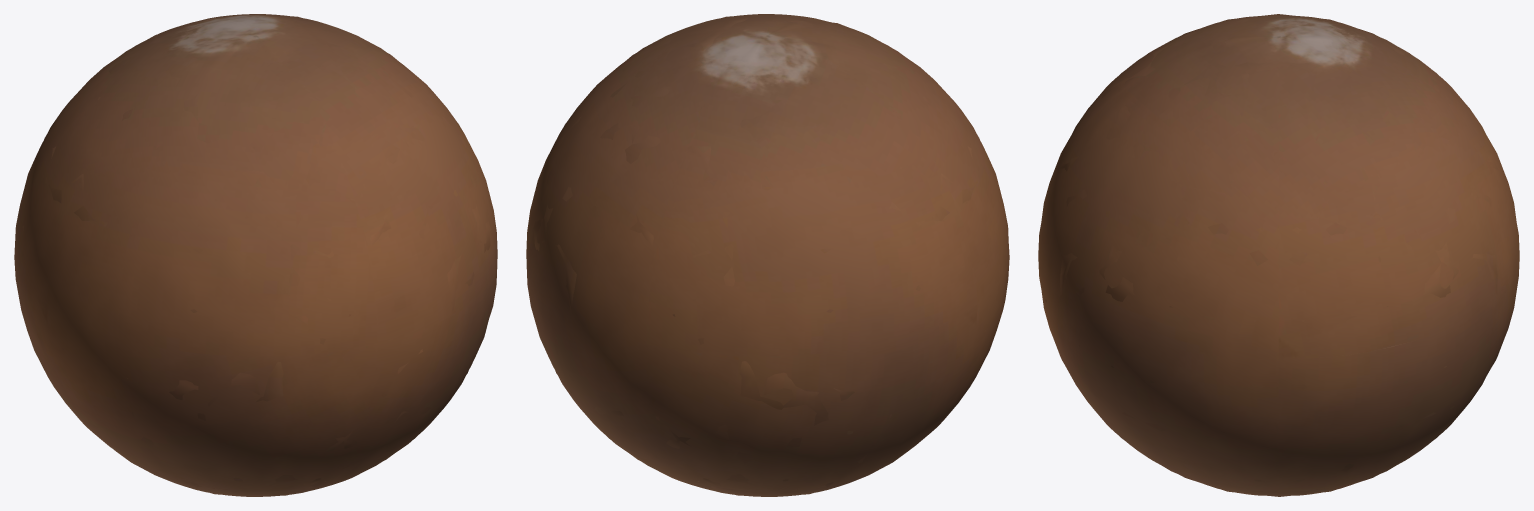
Rendered from mars.glb.
3 renders of one model, left to right at view 1: azimuth 30°, elevation 25°; view 2: azimuth 150°, elevation 25°; view 3: azimuth 270°, elevation 25°, orthographic.
Parts seen in each view (by area): view 1: Realistic Mars; view 2: Realistic Mars; view 3: Realistic Mars.
Boxes of the visible parts, left/top/right/bottom form: Realistic Mars: left=14, top=14, right=497, bottom=496; Realistic Mars: left=526, top=14, right=1009, bottom=496; Realistic Mars: left=1038, top=14, right=1519, bottom=496.
Bounding box in the file's own units: 0.998 × 0.998 × 0.998.
1 material, 1 textured.
